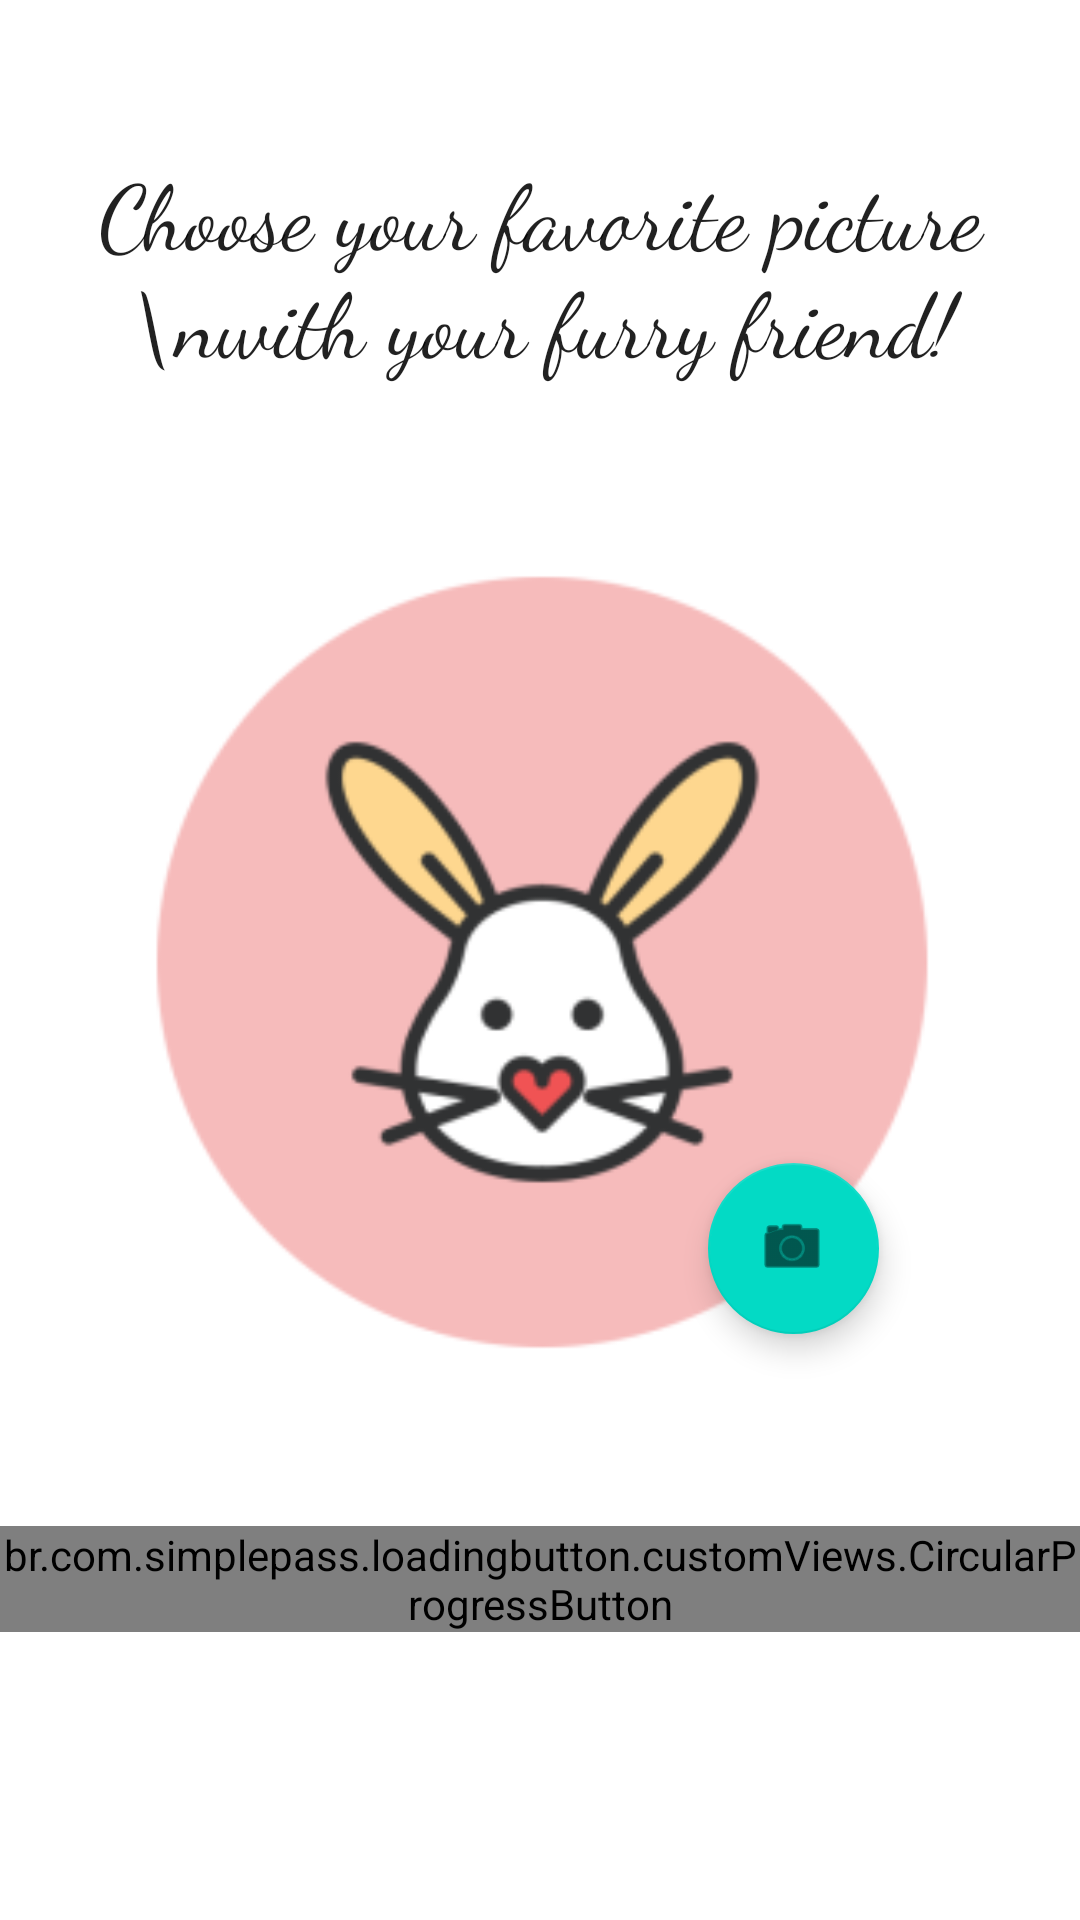

Icon click points for this 1080 x 1920 phone screenshot, format point (x, y):
camera: point (793, 1248)
